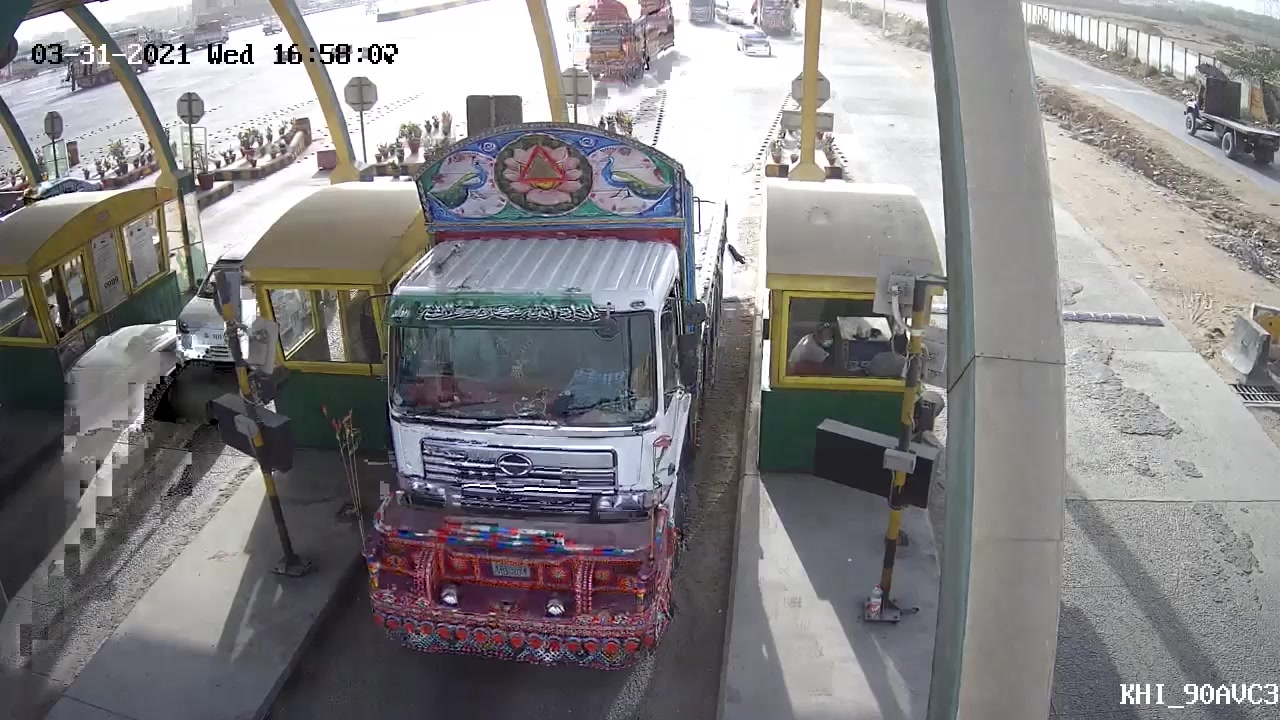F5: (350, 121, 734, 678)
